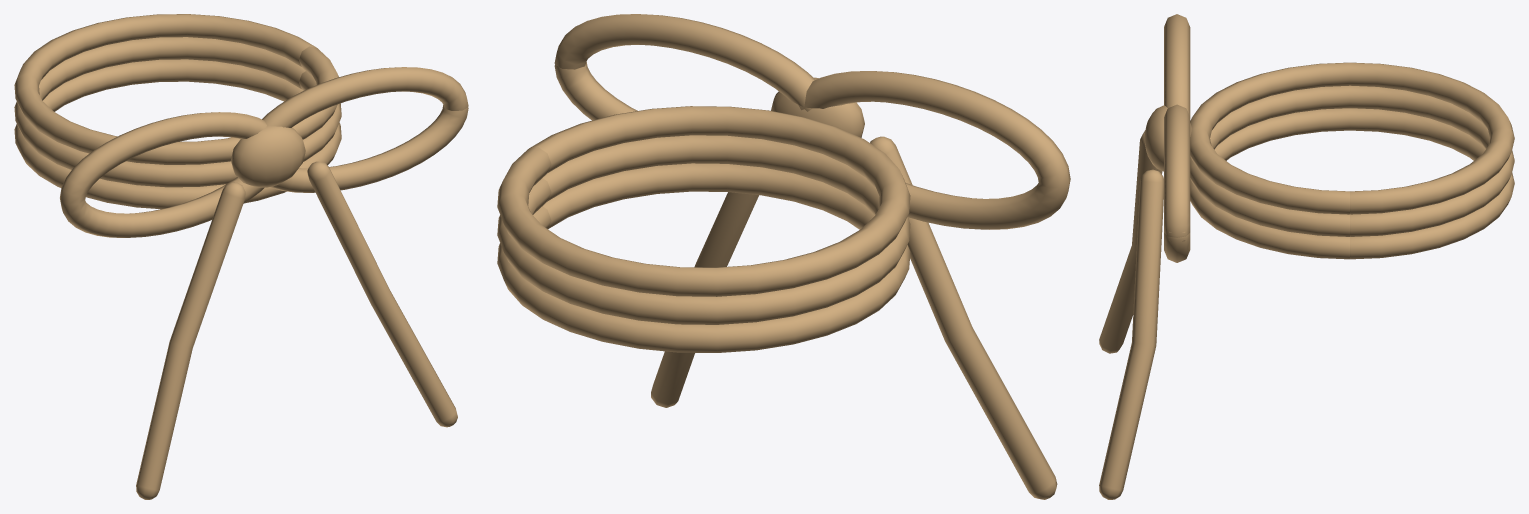
File: bouquet_none.glb
3 views of the same model, side by side, from view 1: azimuth 30°, elevation 25°; view 2: azimuth 150°, elevation 25°; view 3: azimuth 270°, elevation 25° (orthographic). The views are drawn at different scales.
Parts seen in each view (by area): view 1: Natural_raffia_binding.002, Natural_raffia_binding.001, Natural_raffia_binding, Raffia_loose_bow, Raffia_loose_bow.001, Raffia_hanging_end, Raffia_hanging_end.001, Raffia_central_knot; view 2: Natural_raffia_binding.002, Natural_raffia_binding.001, Natural_raffia_binding, Raffia_loose_bow, Raffia_loose_bow.001, Raffia_hanging_end, Raffia_hanging_end.001, Raffia_central_knot; view 3: Natural_raffia_binding.002, Natural_raffia_binding.001, Natural_raffia_binding, Raffia_hanging_end.001, Raffia_loose_bow.001, Raffia_hanging_end, Raffia_loose_bow, Raffia_central_knot.
Boxes of the visible parts, x1=… form: Natural_raffia_binding.002: x1=14, y1=14, x2=338, y2=164; Natural_raffia_binding.001: x1=14, y1=37, x2=341, y2=187; Natural_raffia_binding: x1=14, y1=59, x2=341, y2=209; Raffia_loose_bow: x1=60, y1=112, x2=266, y2=237; Raffia_loose_bow.001: x1=262, y1=67, x2=468, y2=192; Raffia_hanging_end: x1=136, y1=182, x2=245, y2=499; Raffia_hanging_end.001: x1=307, y1=161, x2=457, y2=427; Raffia_central_knot: x1=231, y1=125, x2=305, y2=187; Natural_raffia_binding.002: x1=497, y1=106, x2=910, y2=296; Natural_raffia_binding.001: x1=497, y1=135, x2=910, y2=324; Natural_raffia_binding: x1=497, y1=163, x2=910, y2=352; Raffia_loose_bow: x1=798, y1=71, x2=1070, y2=229; Raffia_loose_bow.001: x1=554, y1=14, x2=815, y2=120; Raffia_hanging_end: x1=870, y1=136, x2=1057, y2=499; Raffia_hanging_end.001: x1=651, y1=192, x2=758, y2=407; Raffia_central_knot: x1=771, y1=77, x2=864, y2=137; Natural_raffia_binding.002: x1=1190, y1=62, x2=1514, y2=214; Natural_raffia_binding.001: x1=1190, y1=85, x2=1514, y2=236; Natural_raffia_binding: x1=1190, y1=108, x2=1514, y2=259; Raffia_hanging_end.001: x1=1099, y1=169, x2=1163, y2=499; Raffia_loose_bow.001: x1=1164, y1=104, x2=1190, y2=262; Raffia_hanging_end: x1=1099, y1=130, x2=1162, y2=353; Raffia_loose_bow: x1=1164, y1=14, x2=1190, y2=116; Raffia_central_knot: x1=1144, y1=105, x2=1191, y2=171.
Size of the model in its own units: 0.0572 by 0.0461 by 0.0505.
